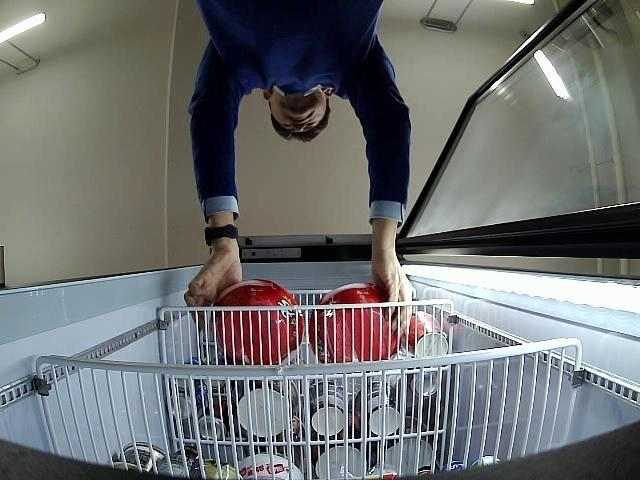10_wangTtukkeong: (210, 281, 304, 365), (310, 284, 401, 362)
